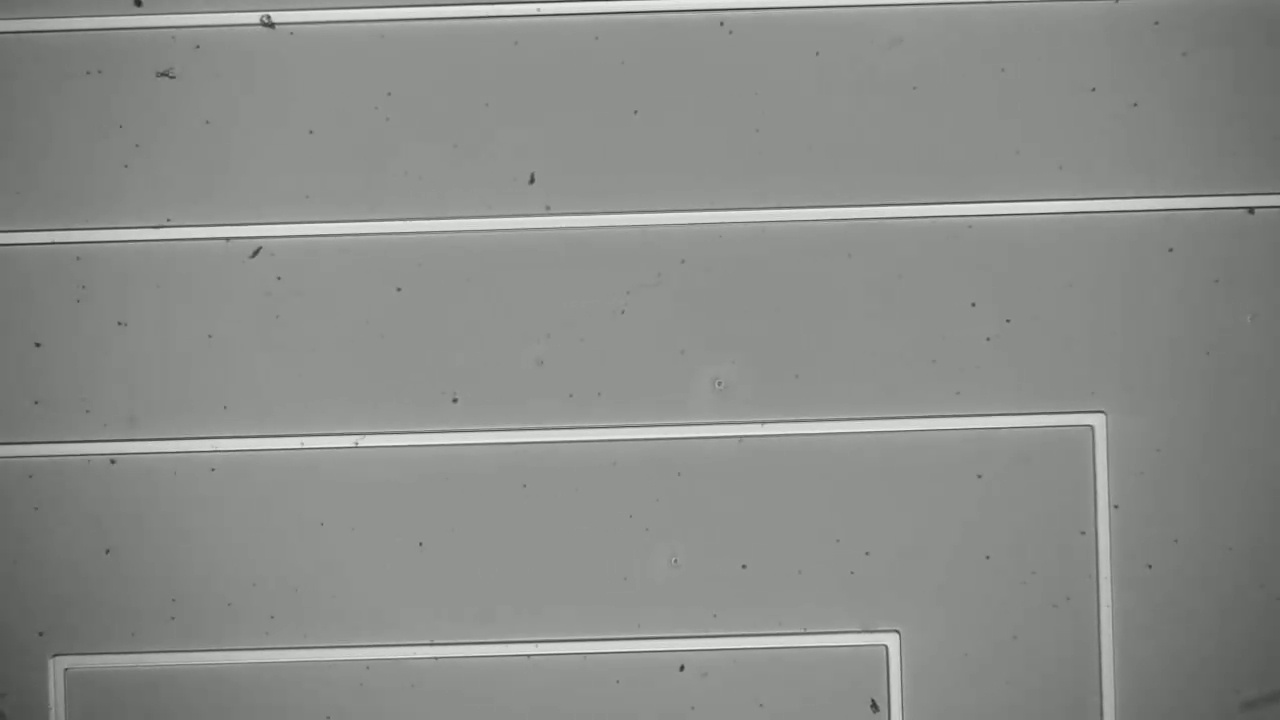stains_enbedded: (255, 7, 280, 36)
